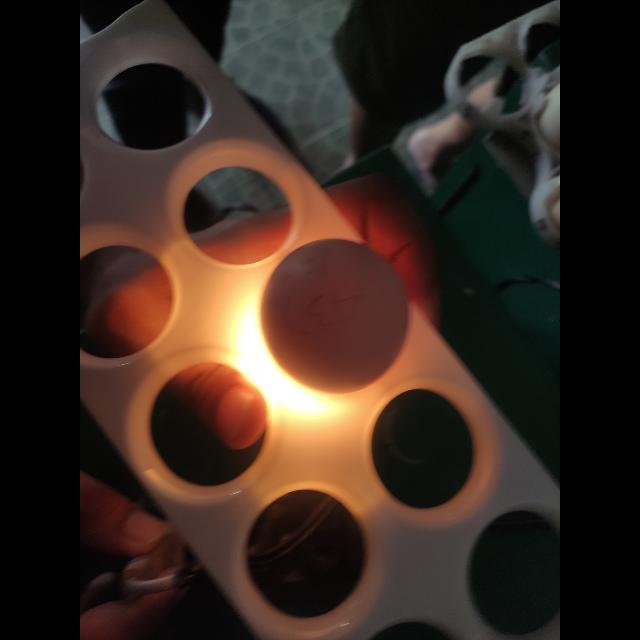Fertile: (255, 234, 417, 396)
